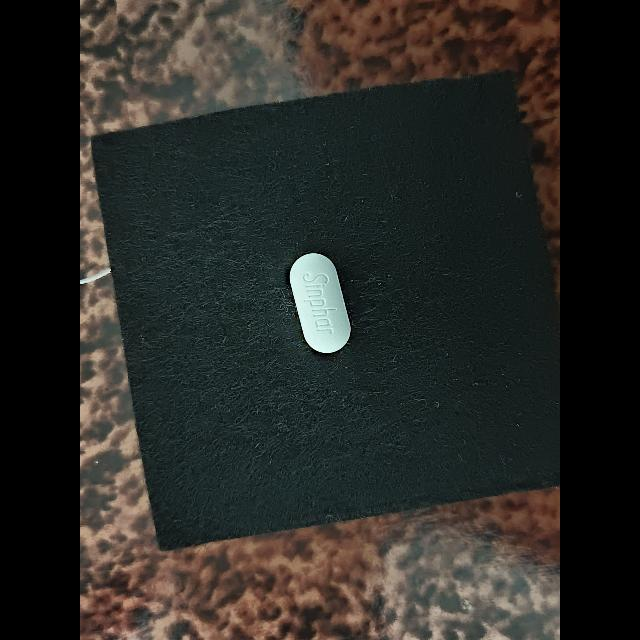Intact Pill: (289, 253, 351, 353)
